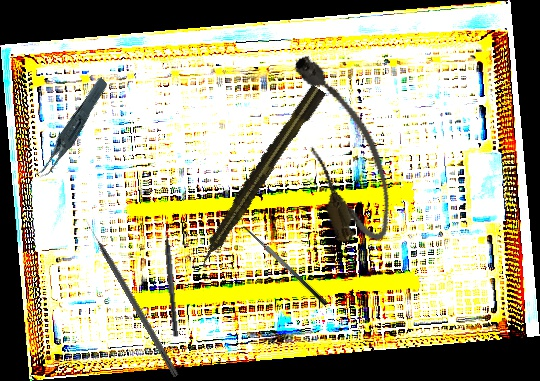Cannula: (280, 41, 405, 253)
Chopper: (160, 219, 187, 338)
Handpiece: (192, 83, 328, 271)
Hook Surgical: (84, 218, 181, 378)
Spatula Surgical: (236, 220, 329, 314)
Tissue Forceps: (15, 75, 126, 182)
